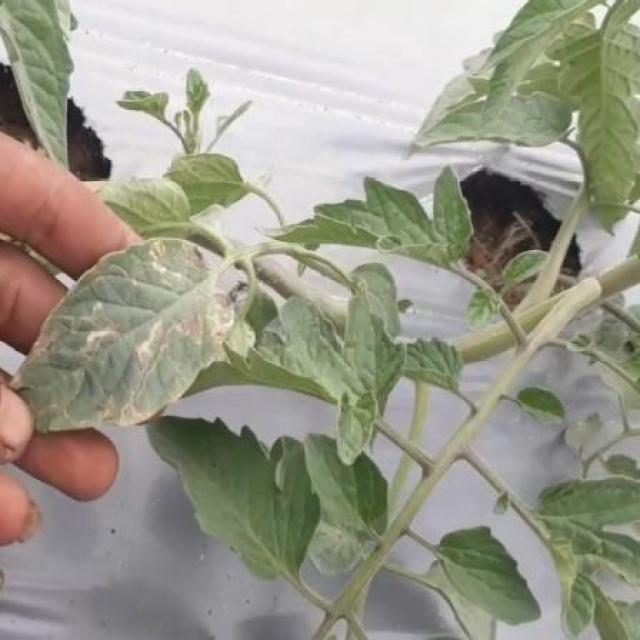Healthy: (147, 415, 322, 588), (435, 523, 544, 628), (301, 431, 394, 534)
Leaf Miner: (22, 235, 238, 434)
